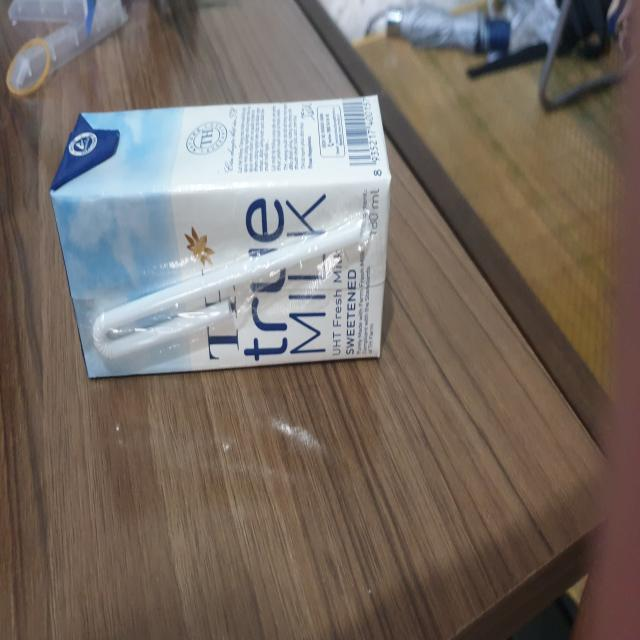TH: (52, 97, 394, 382)
